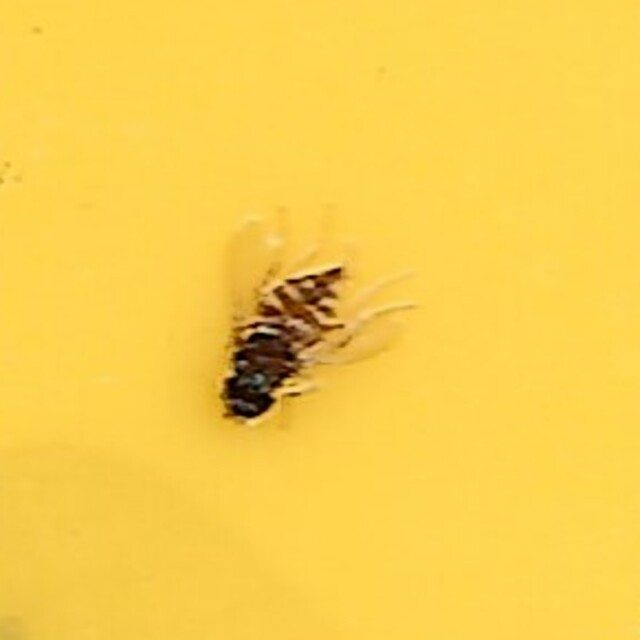Brachycera: (220, 213, 420, 427)
